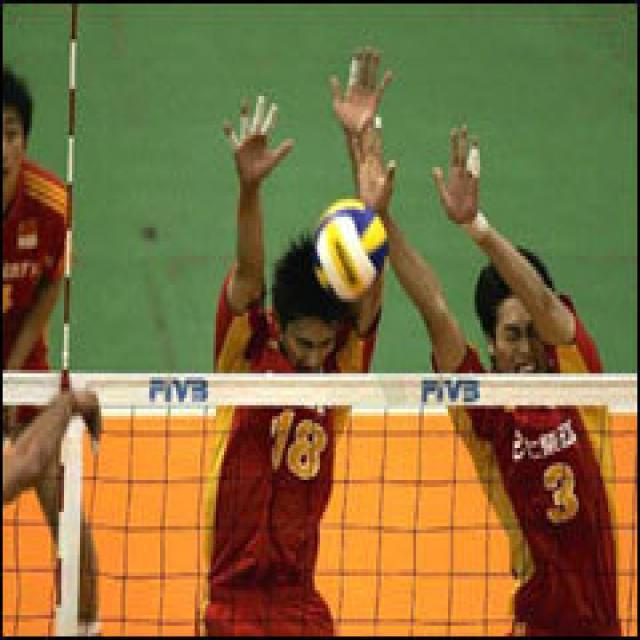volleyball: (310, 198, 392, 306)
